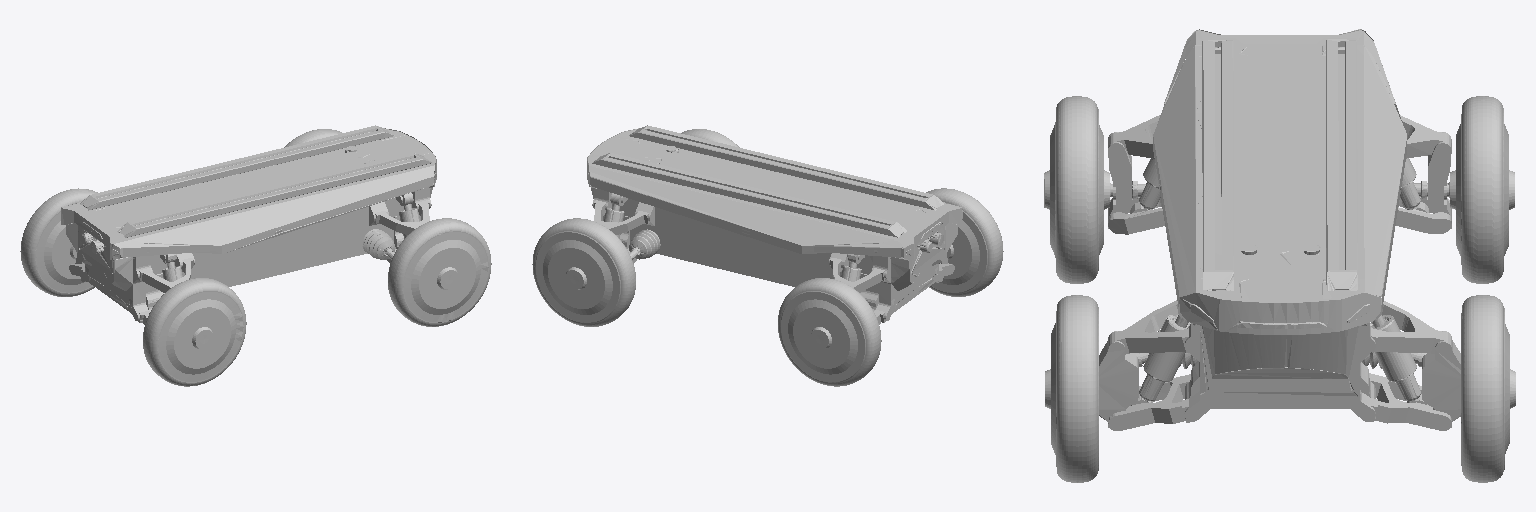
robot.urdf — yhs_chassis_description:
<robot name="yhs_chassis_description">
  <link name="base_link">
    <visual>
      <origin
        xyz="0.42 0.31 0"
        rpy="1.57 0 -1.57" />
      <geometry>
        <mesh
          filename="package://yhs_chassis_description/meshes/MK-mini.STL"/>
      </geometry>
      <material
        name="">
        <color
          rgba="0.8 0.8 0.8 1" />
      </material>
    </visual>
  </link>
</robot>

--- Render facts (derived) ---
3 views of the same robot in one strip: view 1: azimuth 30°, elevation 25°; view 2: azimuth 150°, elevation 25°; view 3: azimuth 270°, elevation 25° (orthographic).
Model yhs_chassis_description with 1 links and 0 joints (none), rooted at base_link, posed every joint at zero.
Links seen in each view (by area): view 1: base_link; view 2: base_link; view 3: base_link.
Link boxes in pixels (box(x1,y1,x2,y2)): base_link: box(20, 125, 491, 386); base_link: box(532, 125, 1003, 386); base_link: box(1044, 29, 1515, 482).
Size in the robot's own frame: 0.8403 by 0.6016 by 0.3095 metres.
Meshes: 1 distinct files referenced, 1 mesh visuals loaded (1 binary STL).